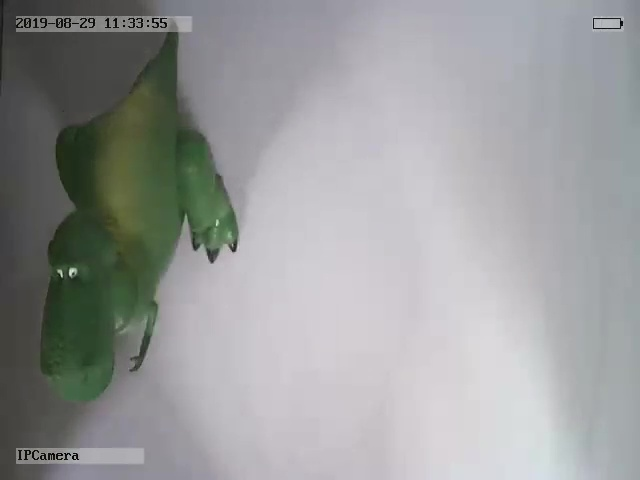rex: (39, 32, 240, 403)
